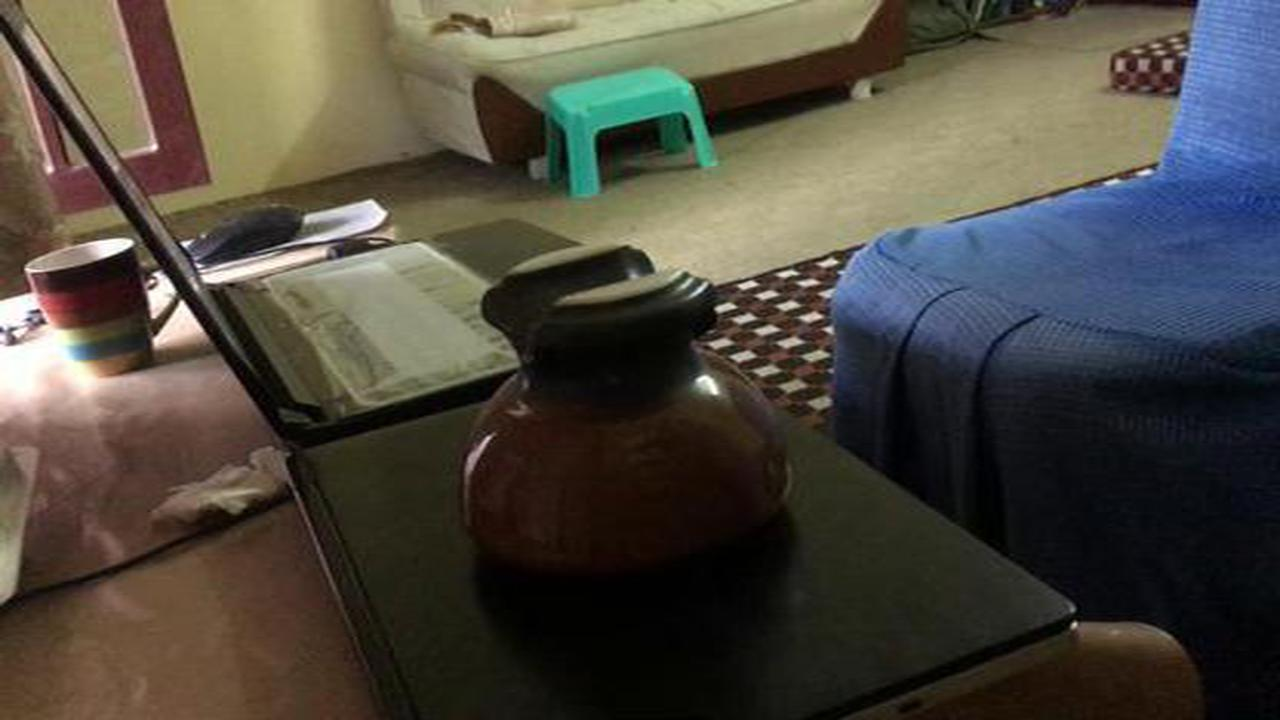insulator_pin: (450, 229, 822, 598)
